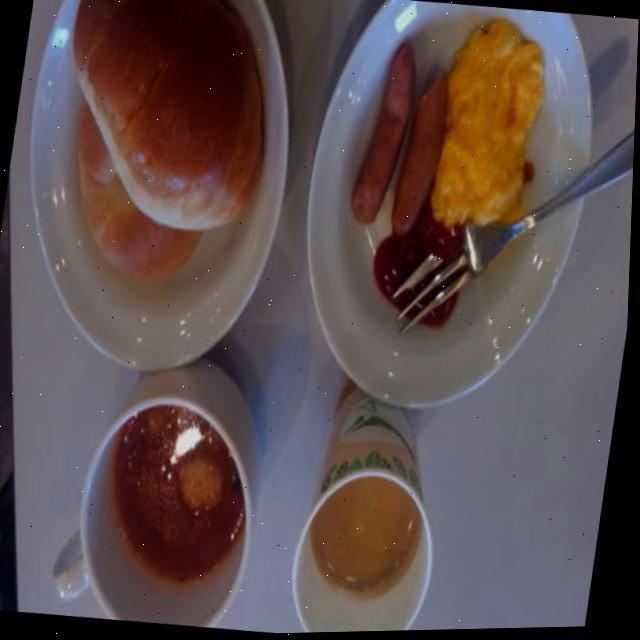面包点心: (19, 0, 285, 317)
鸡蛋料理: (418, 2, 556, 248)
